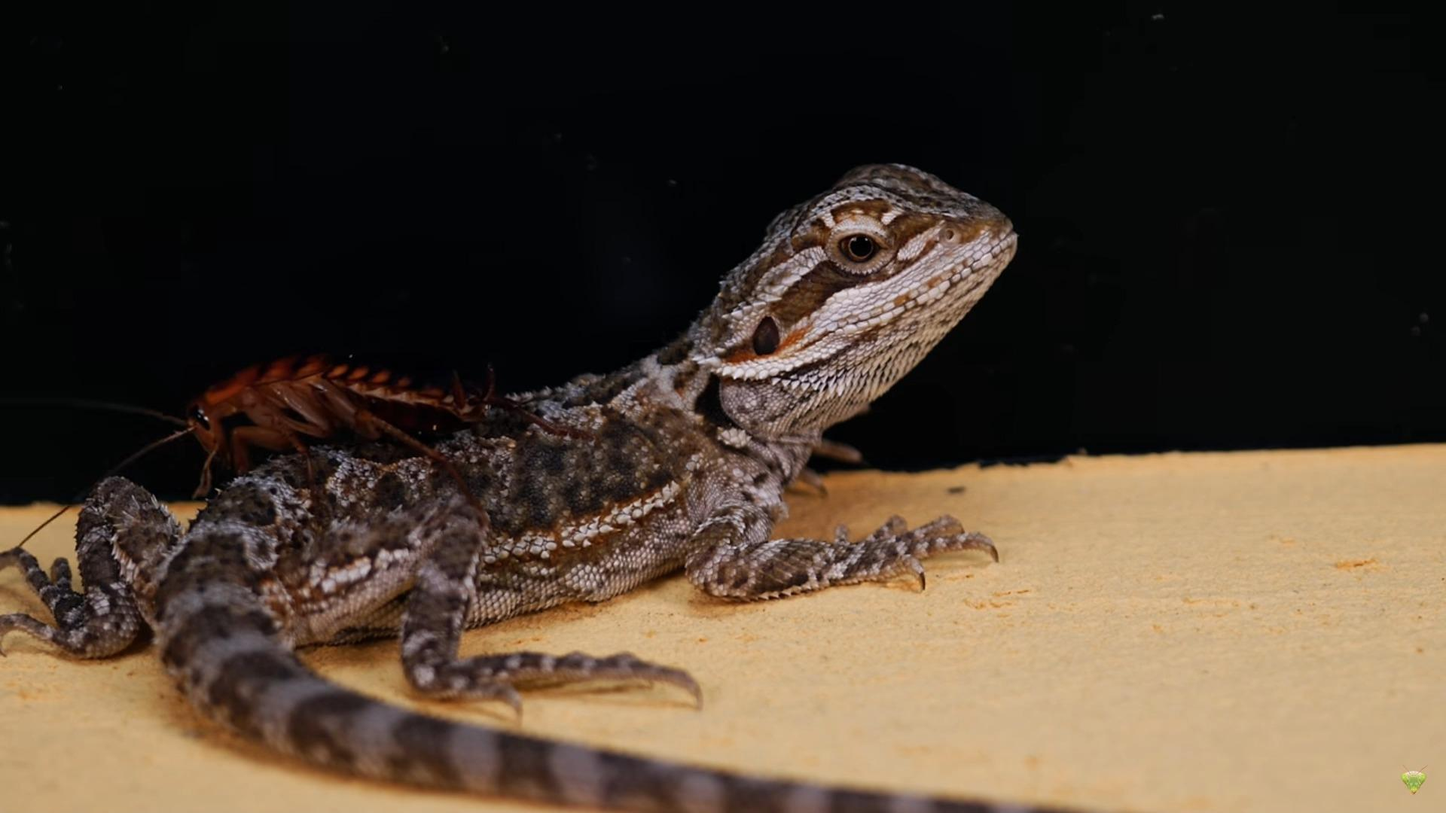cockroach: (158, 326, 558, 479)
lizard: (9, 160, 1018, 770)
